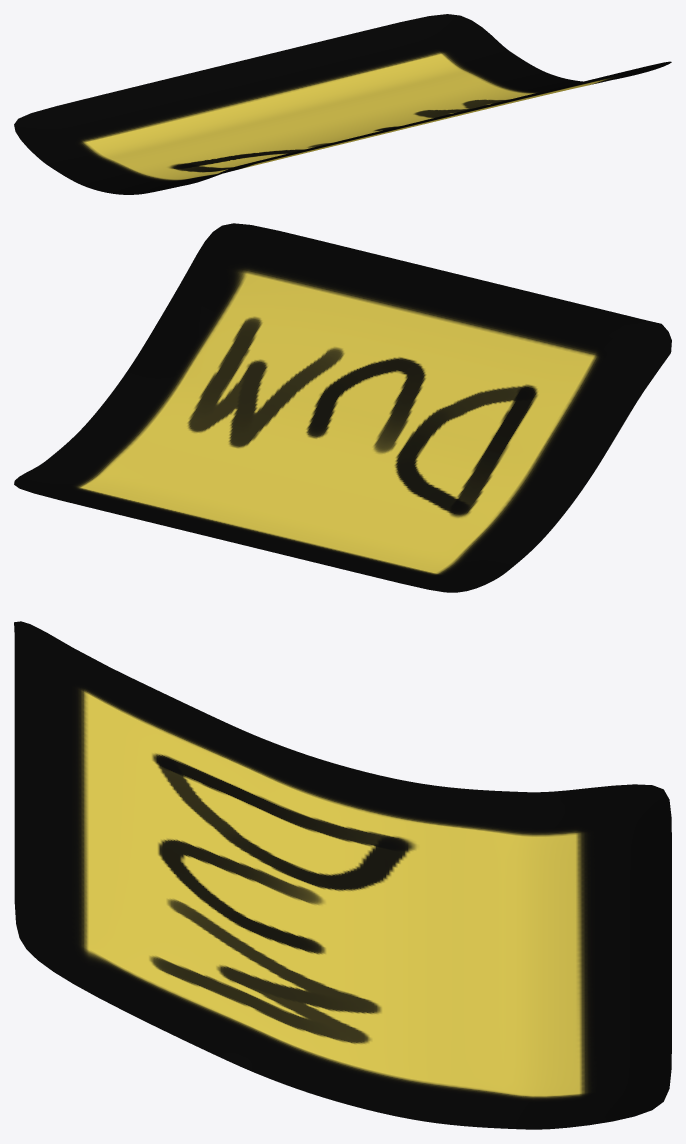
Rendered from note.glb.
3 views of the same model, one above another, from view 1: azimuth 30°, elevation 25°; view 2: azimuth 150°, elevation 25°; view 3: azimuth 270°, elevation 25° (orthographic). The views are drawn at different scales.
Visible parts, largest first — view 1: Dum_Stickynote; view 2: Dum_Stickynote; view 3: Dum_Stickynote.
Boxes of the visible parts, left/top/right/bottom form: Dum_Stickynote: left=14, top=14, right=671, bottom=194; Dum_Stickynote: left=14, top=223, right=671, bottom=592; Dum_Stickynote: left=14, top=621, right=671, bottom=1129.
Size of the model in its own units: 0.0936 by 0.0238 by 0.0763.
Materials: 1 (1 with a texture image).
